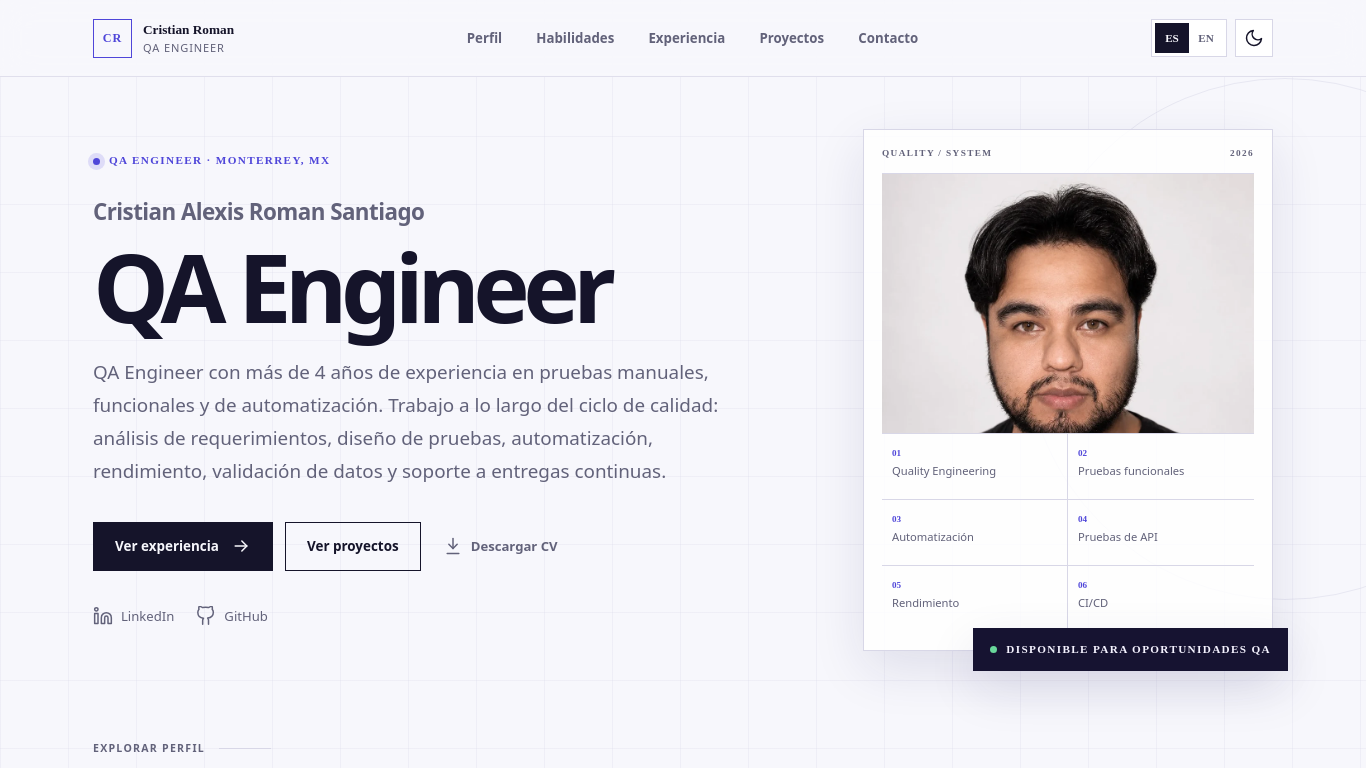
Scenario: portfolio preferences › switches all recruiter-facing content to English and persists the choice
Expected: the heading "Cristian Alexis Roman Santiago QA Engineer" is shown, [93, 196, 610, 351]
Expected: the link "Ver experiencia" is shown, [93, 522, 273, 571]
Click the button "EN" at (1206, 38), box [1189, 23, 1223, 53]
(page scrolled)
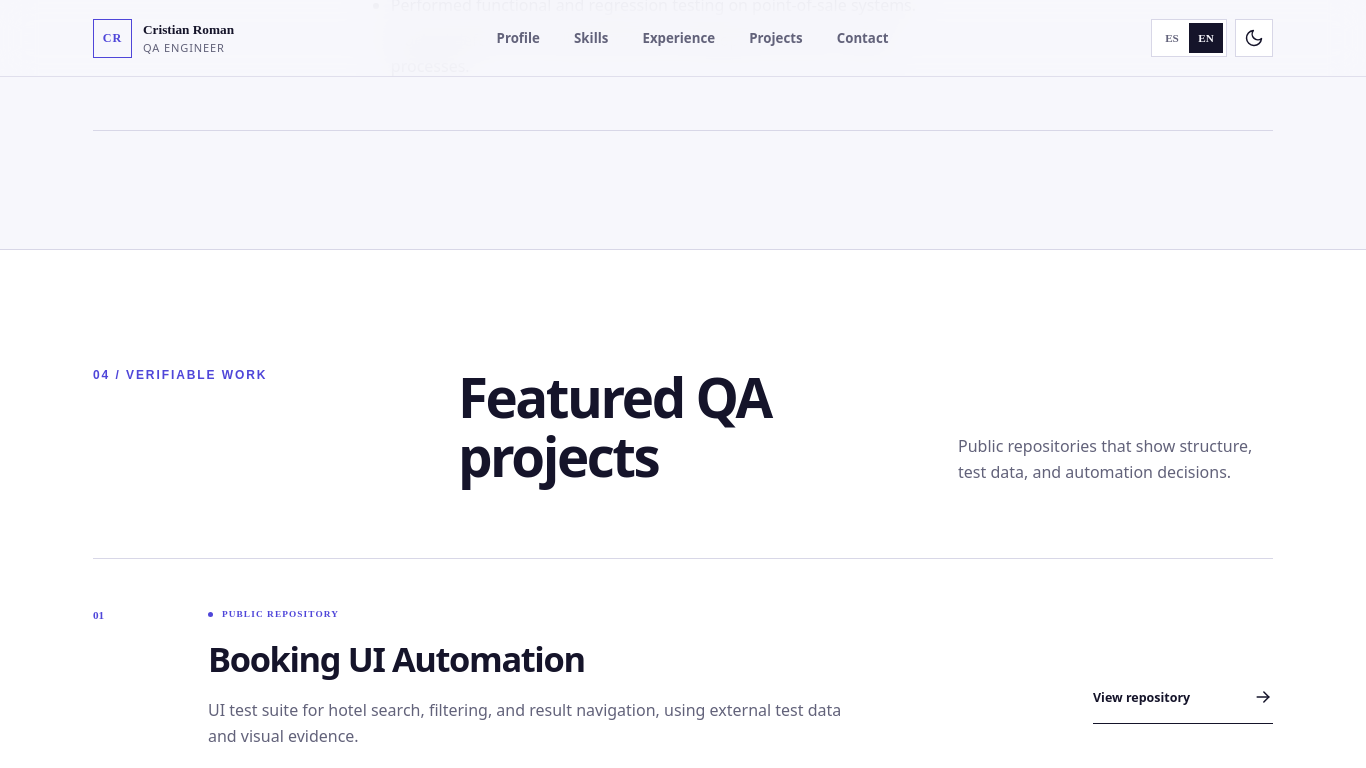
Now the heading "Featured QA projects" is shown, box [458, 360, 771, 493]
